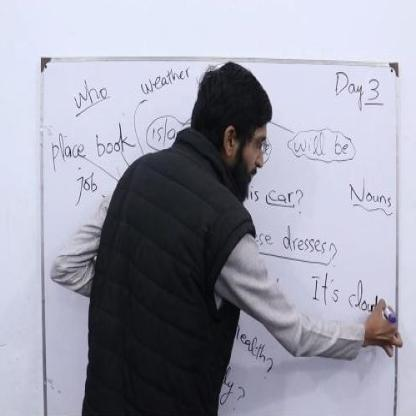Handwritten text: (46, 124, 134, 165), (133, 54, 201, 106), (312, 266, 378, 315), (259, 222, 328, 261), (293, 128, 348, 161), (332, 63, 365, 117), (347, 172, 393, 210), (70, 70, 107, 109), (71, 164, 98, 211), (249, 181, 293, 206), (148, 113, 164, 145)
Lecturer: (95, 59, 276, 416)
Whiteboard: (36, 51, 401, 416)
